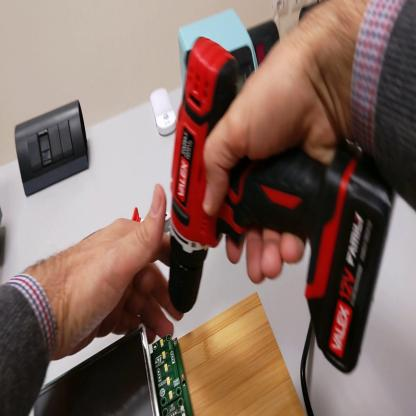electric screwdriver: (151, 34, 357, 321)
hand: (200, 23, 349, 283), (37, 184, 185, 363)
low voltage board: (35, 324, 196, 416)
pliers: (131, 209, 171, 234)
socket: (243, 12, 283, 66), (300, 2, 324, 21)
welder station: (177, 10, 259, 95)
working area: (177, 291, 308, 416)
